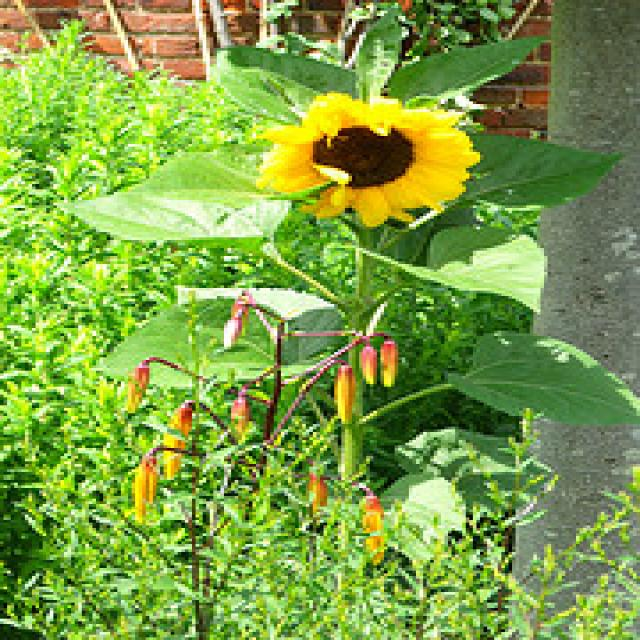sunflower: (263, 92, 475, 222)
